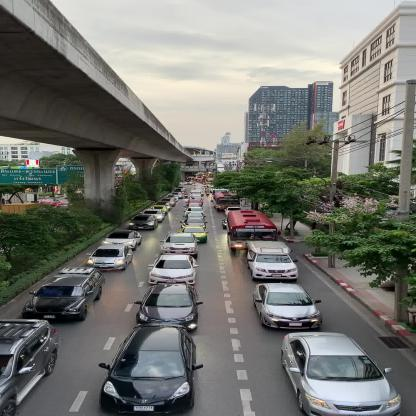bus: (225, 209, 276, 254)
car: (282, 332, 404, 416), (99, 326, 206, 414), (25, 267, 105, 322), (135, 284, 205, 332), (255, 282, 321, 329), (244, 241, 302, 281), (147, 254, 199, 286), (86, 244, 133, 270), (160, 232, 202, 255), (100, 230, 140, 251), (178, 227, 209, 243), (129, 216, 158, 230)
